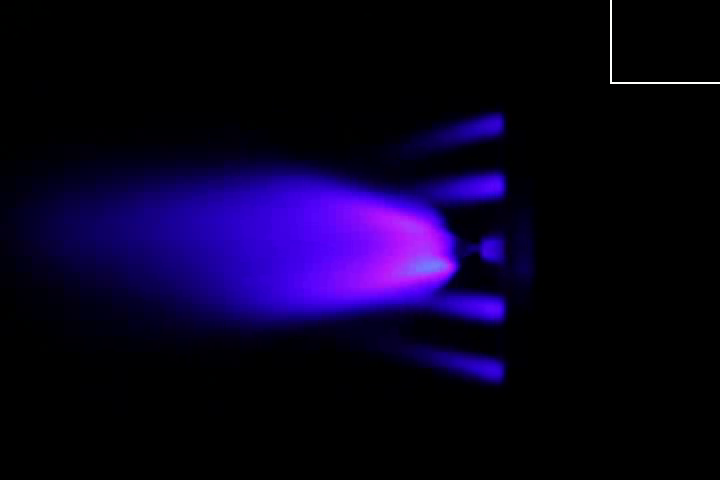burner cap: (481, 231, 508, 269)
pilot flame: (416, 343, 504, 384), (416, 111, 504, 145), (434, 289, 507, 326), (407, 173, 512, 197)
unstable: (315, 193, 482, 296)
